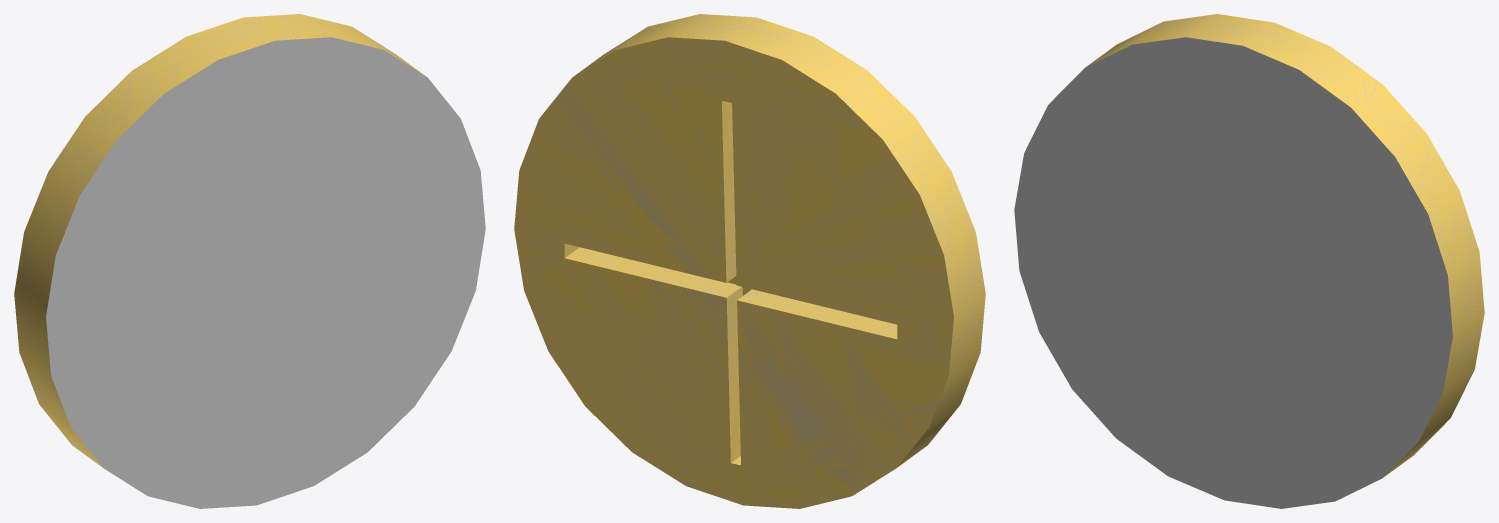
The model's file is original-29.obj.
3 renders of one model, left to right at view 1: azimuth 30°, elevation 25°; view 2: azimuth 150°, elevation 25°; view 3: azimuth 330°, elevation 25°, orthographic.
Parts seen in each view (by area): view 1: Screw_Head9/Screw_Head/mesh3/mesh3-geometry#mesh3-geometry; view 2: Screw_Head9/Screw_Head/mesh3/mesh3-geometry#mesh3-geometry; view 3: Screw_Head9/Screw_Head/mesh3/mesh3-geometry#mesh3-geometry.
Boxes of the visible parts, left/top/right/bottom form: Screw_Head9/Screw_Head/mesh3/mesh3-geometry#mesh3-geometry: left=14, top=14, right=485, bottom=508; Screw_Head9/Screw_Head/mesh3/mesh3-geometry#mesh3-geometry: left=514, top=14, right=985, bottom=508; Screw_Head9/Screw_Head/mesh3/mesh3-geometry#mesh3-geometry: left=1014, top=14, right=1484, bottom=508.
Bounding box in the file's own units: 0.0108 × 0.0108 × 0.00136.
